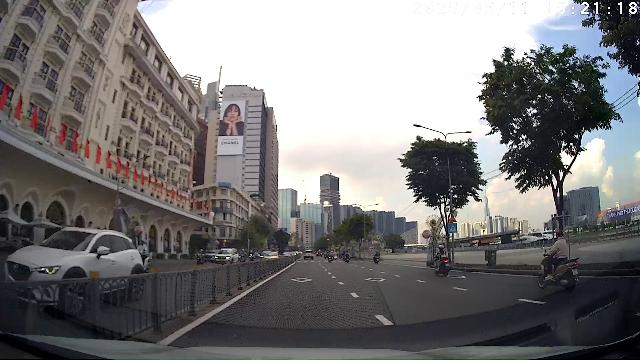423a-duong-nguoi-di-bo-sang-ngang-1: (448, 224, 458, 232)
